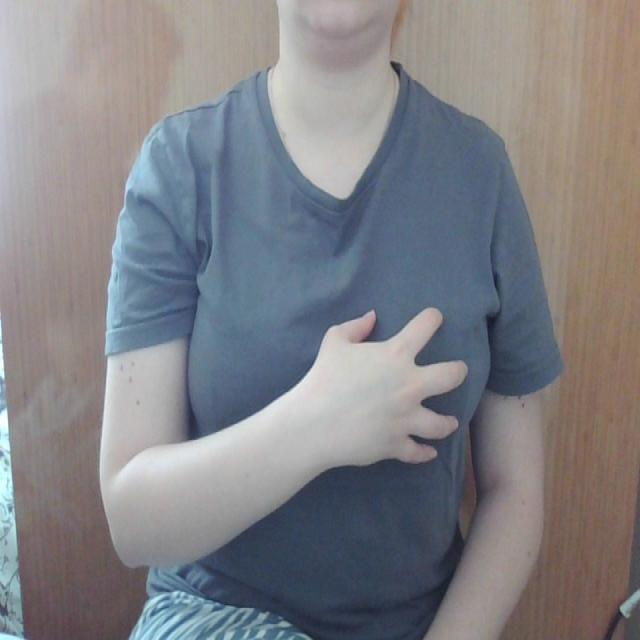Anne: (194, 286, 524, 477)
